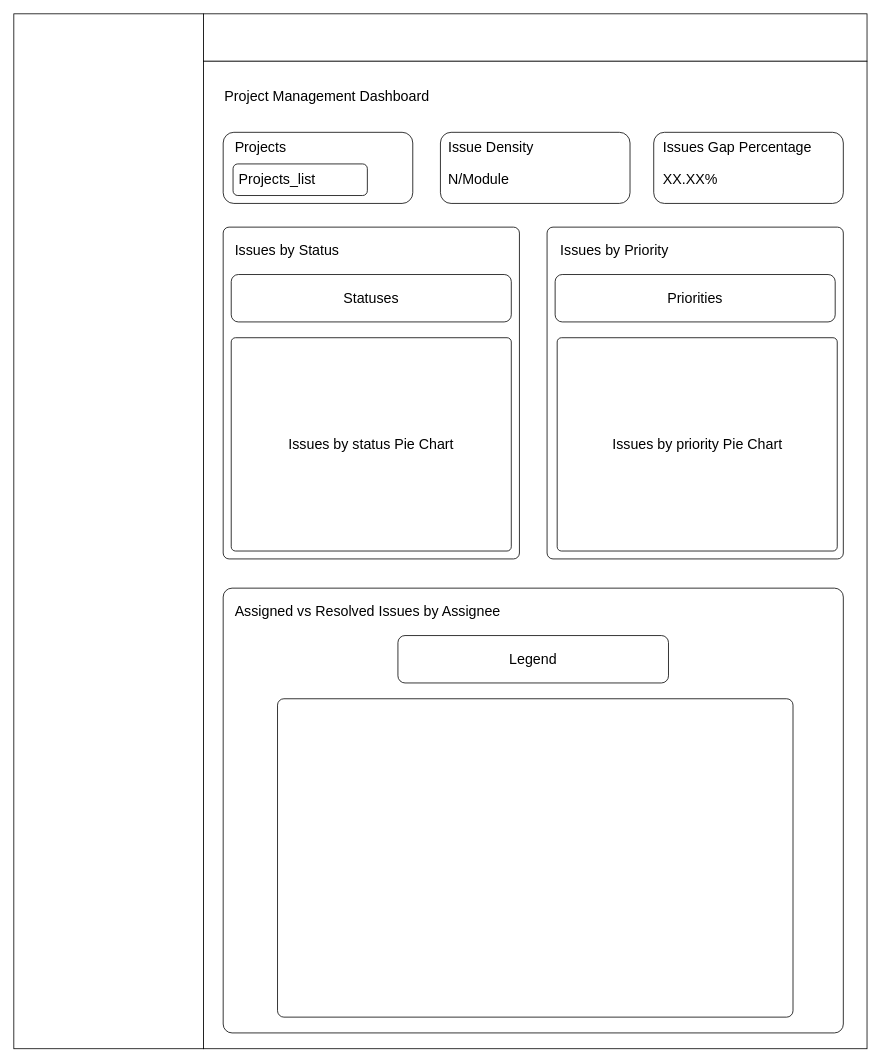
This 881x1063 diagram has some shape labels left out. Each missing label, with the centre of its shape:
"Assigned vs Resolved Issues by Assignee Bar Chart" goes at point (535, 857).
"Navigation" goes at point (535, 37).
"Toolbar" goes at point (108, 531).
